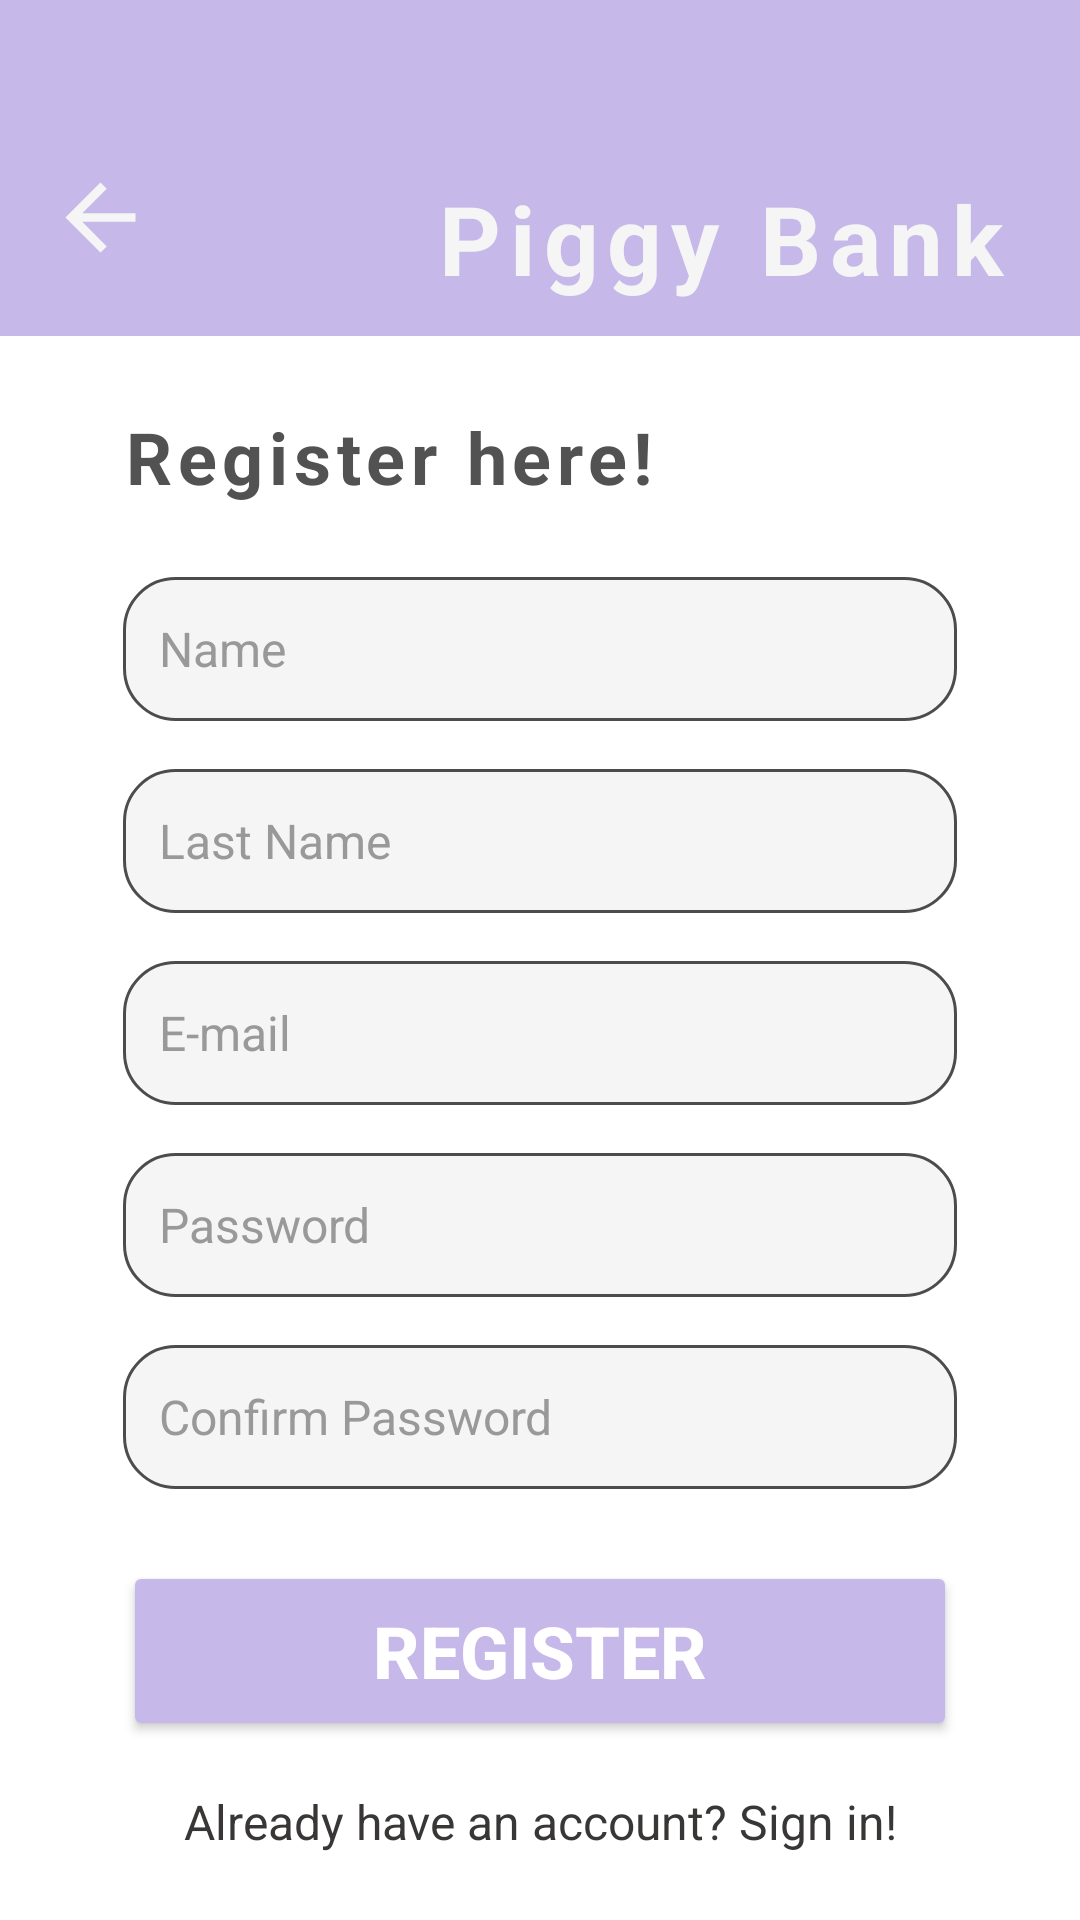

Where icons sit on this 1080 × 1920 app screen, as [x1,y1,x2,y2]:
Back: [66,183,136,252]
